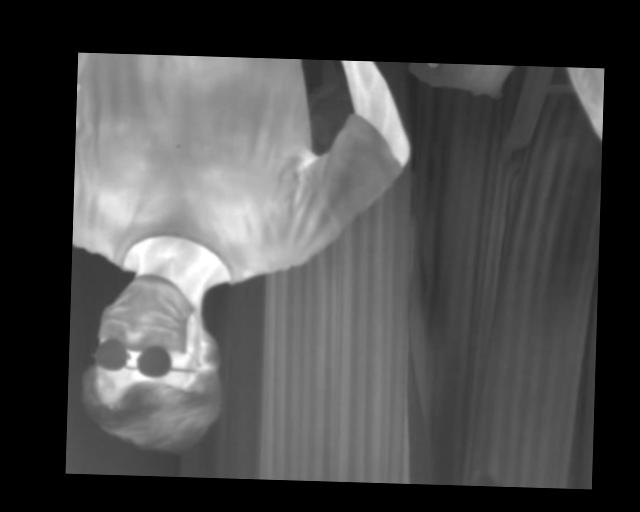face: (85, 271, 227, 453)
